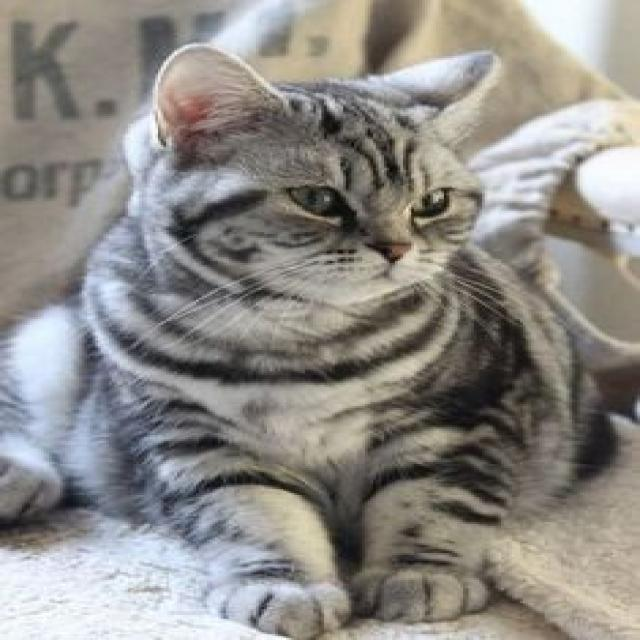da khoe manh: (154, 302, 515, 523)
